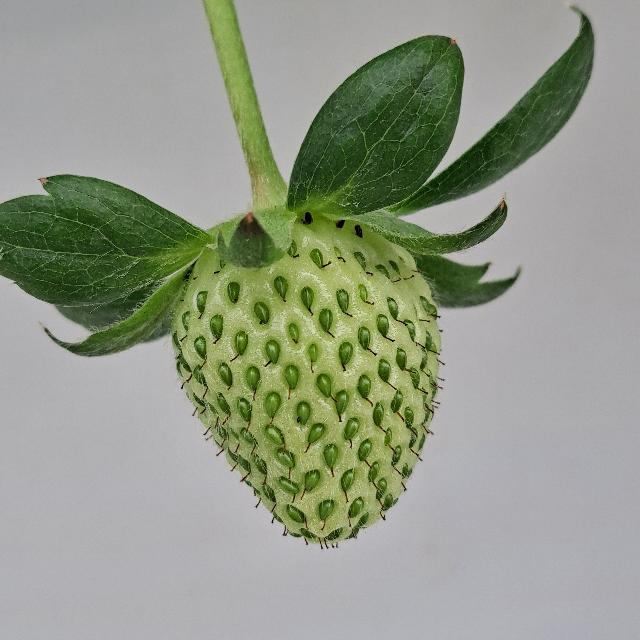Health_25: (171, 220, 441, 544)
